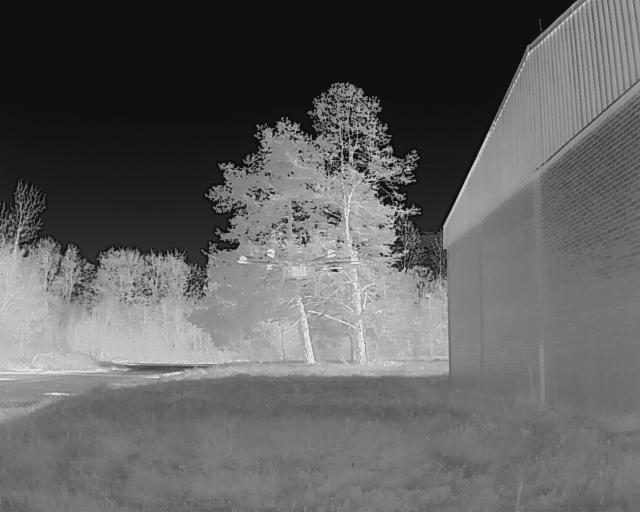drone: (236, 236, 365, 317)
